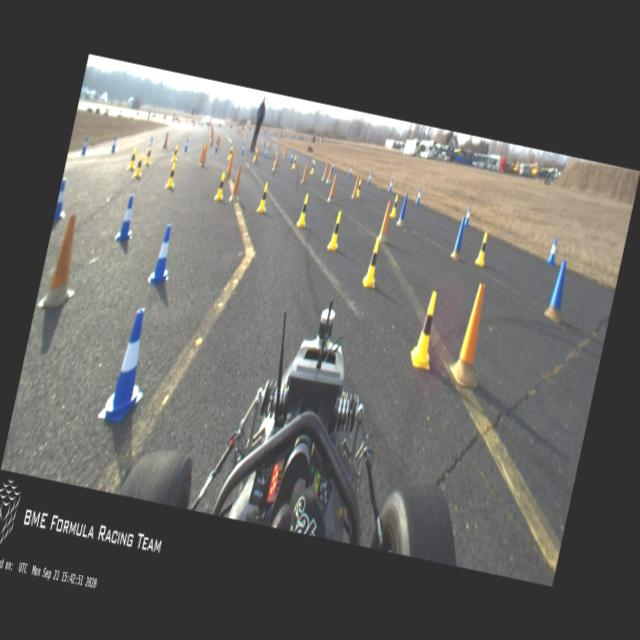blue_cone: (95, 304, 160, 426), (147, 222, 179, 284), (114, 192, 140, 242), (54, 177, 70, 219), (546, 238, 559, 264), (464, 206, 472, 225), (81, 134, 88, 154), (415, 188, 422, 204), (110, 136, 117, 152), (366, 171, 372, 184), (147, 136, 153, 149), (388, 179, 393, 192), (263, 146, 268, 158), (184, 138, 188, 151), (348, 164, 352, 177), (330, 160, 335, 170), (310, 155, 314, 166), (214, 142, 218, 152), (240, 143, 244, 153), (290, 152, 294, 162)
yellow_cone: (408, 290, 445, 370), (362, 237, 384, 287), (326, 210, 345, 251), (296, 192, 312, 226), (474, 231, 490, 265), (256, 180, 271, 212), (214, 170, 228, 200), (164, 161, 178, 188), (126, 146, 138, 170), (390, 194, 400, 217), (134, 154, 144, 176), (143, 145, 153, 164), (354, 178, 362, 196), (226, 144, 234, 160), (171, 144, 179, 160), (310, 158, 316, 174), (252, 148, 258, 162), (292, 156, 296, 168)
